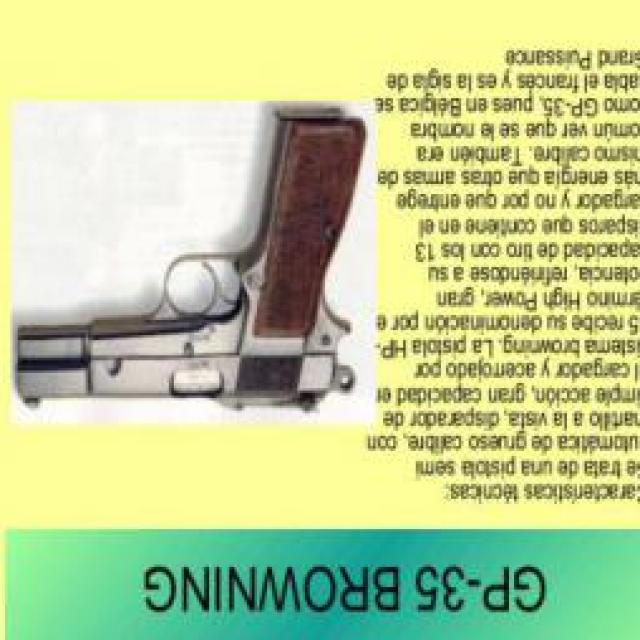pistol: (18, 114, 362, 418)
